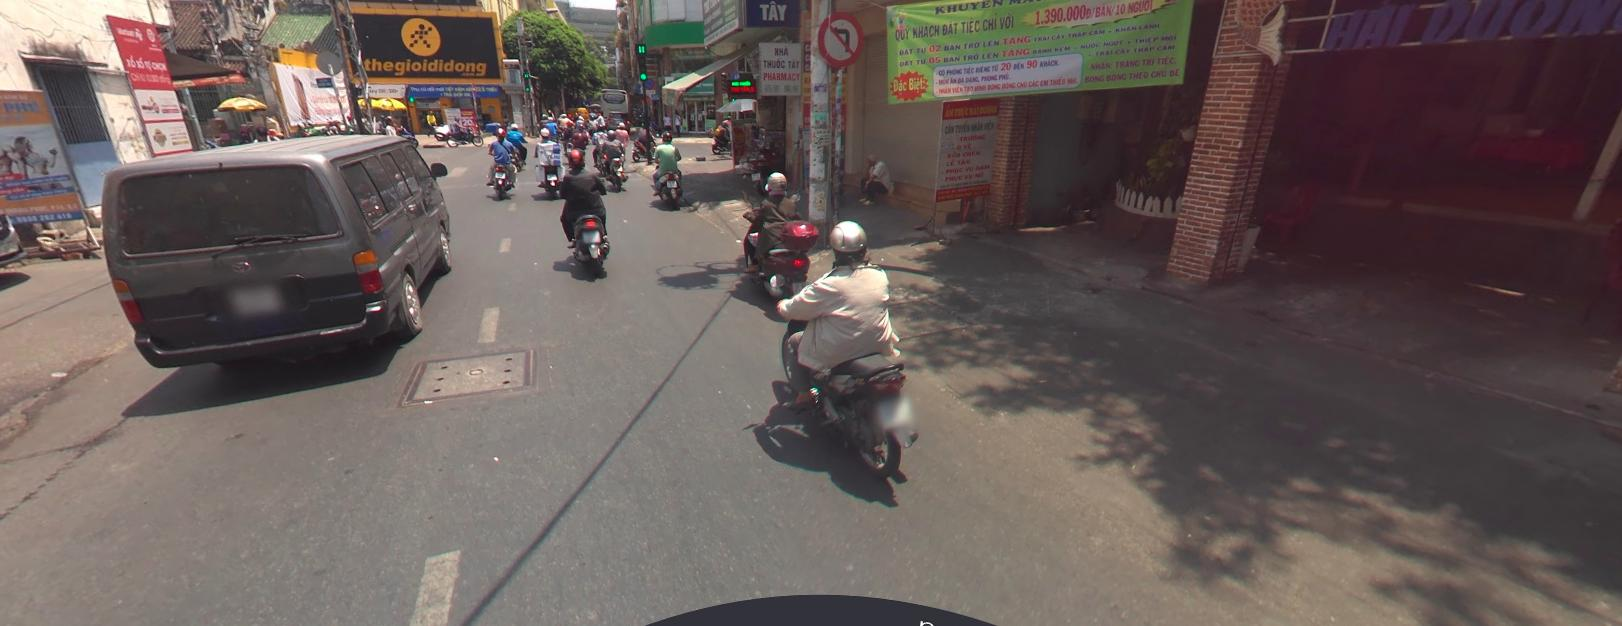Cam dung va do: (643, 76, 654, 89)
Cam re: (816, 9, 864, 69)
